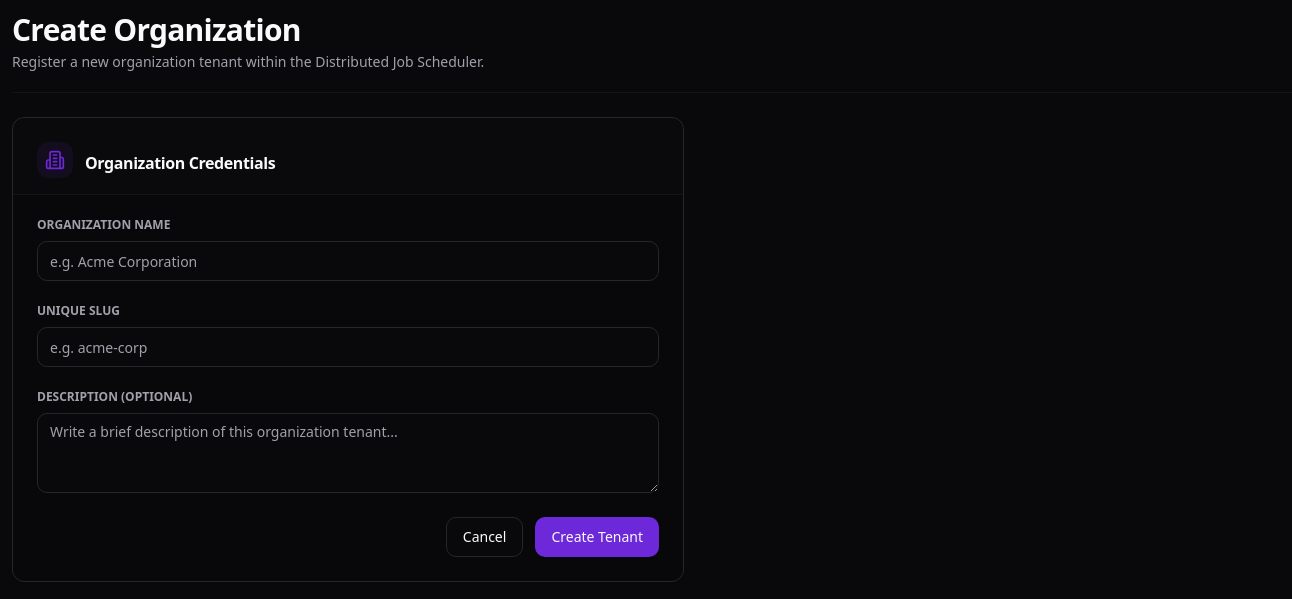
Test: Organizations Module Views › generates slug automatically from name input changes
This screenshot has width=1292, height=599.
Step 1. Type "My Awesome Tenant" into the field labelled "Organization Name" → (348,261), box [37,241,659,281]
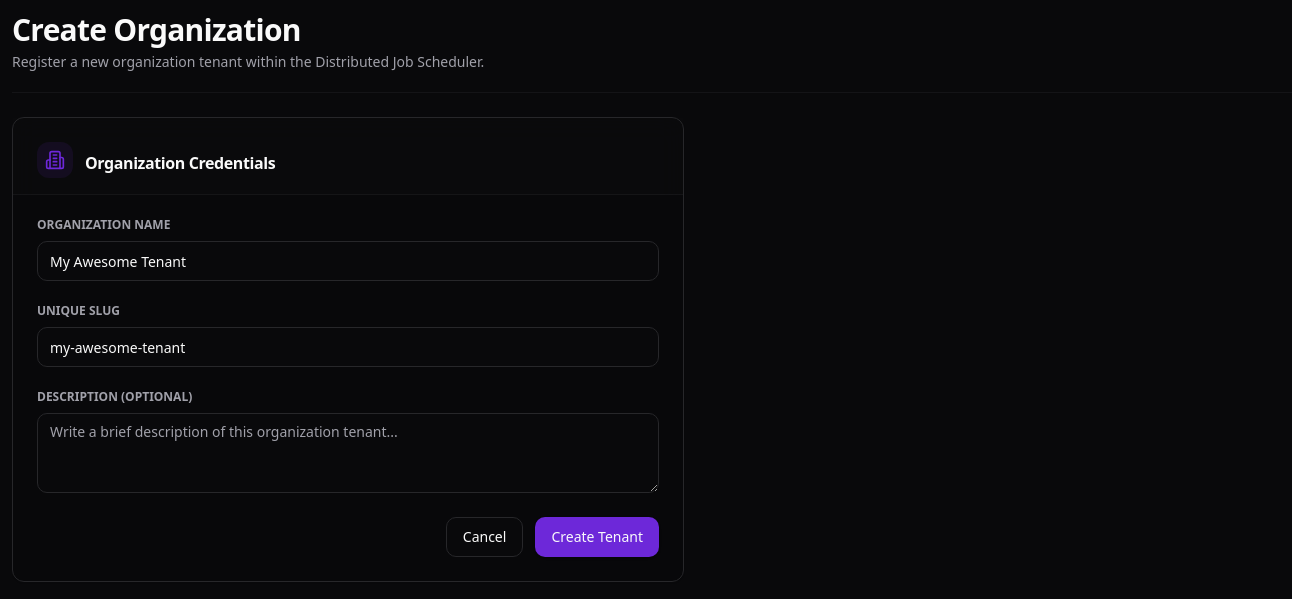
expect the field labelled "Unique Slug" holds "my-awesome-tenant": met, box [37,327,659,367]
